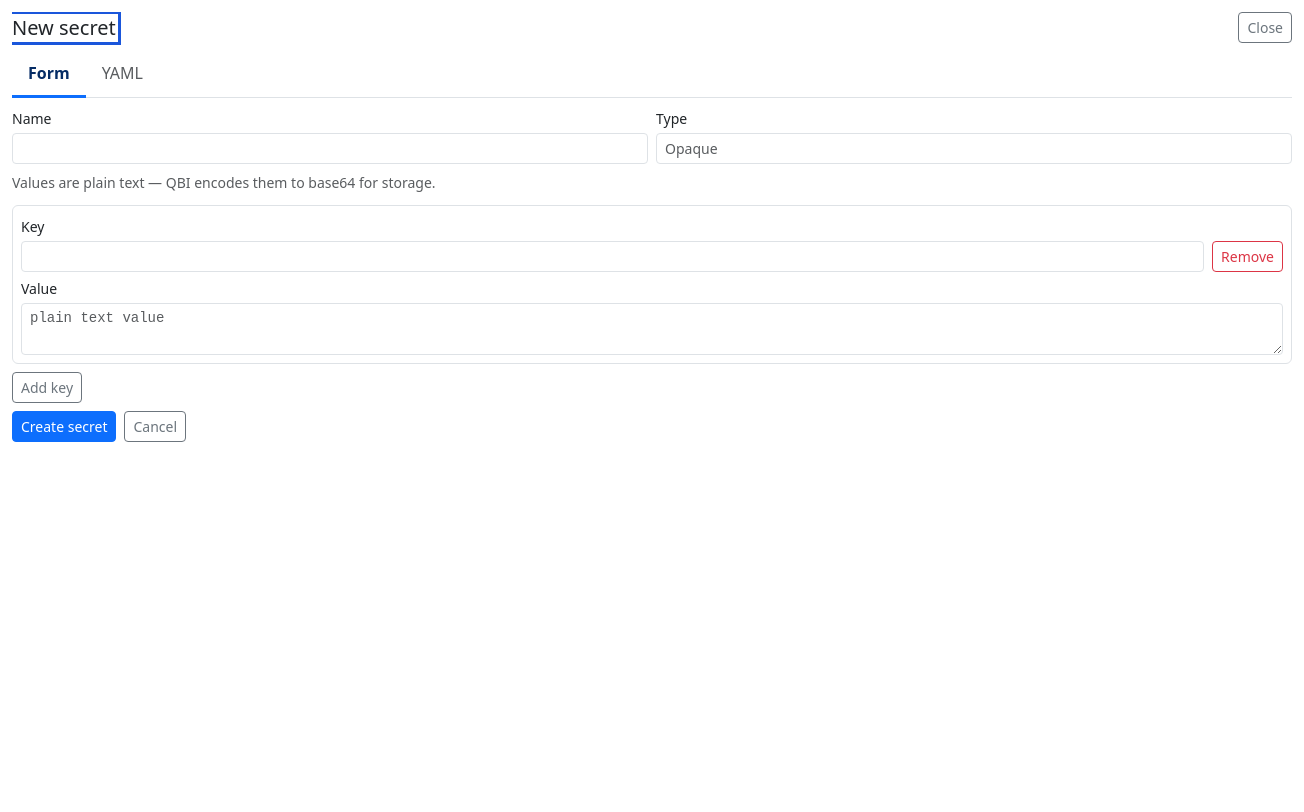
SecretCreate - form validation › rejects duplicate keys
Type "api-token" into the field with id "secret-create-name".
click(330, 148); type("api-token")  # box [12,133,648,164]
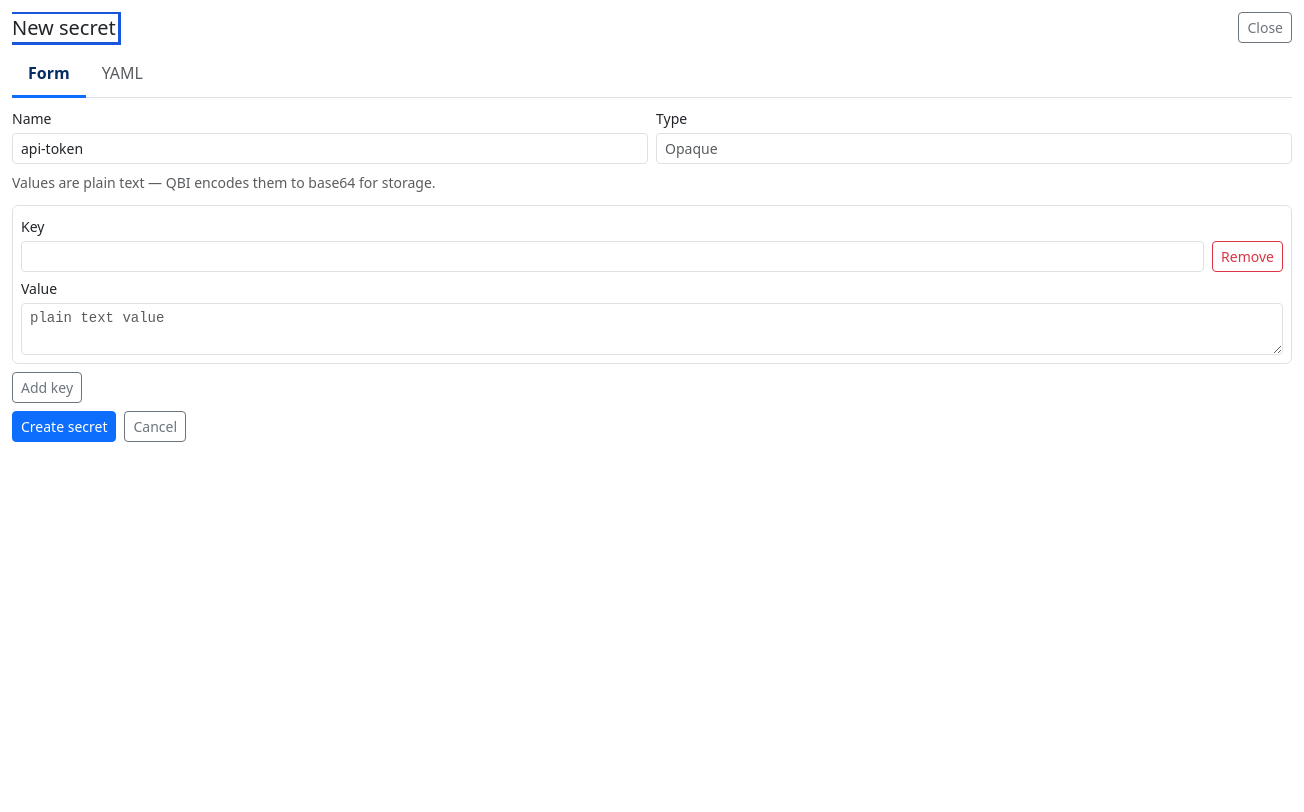
Type "user" into the field labelled "Key".
click(613, 256); type("user")  # box [21,241,1204,272]
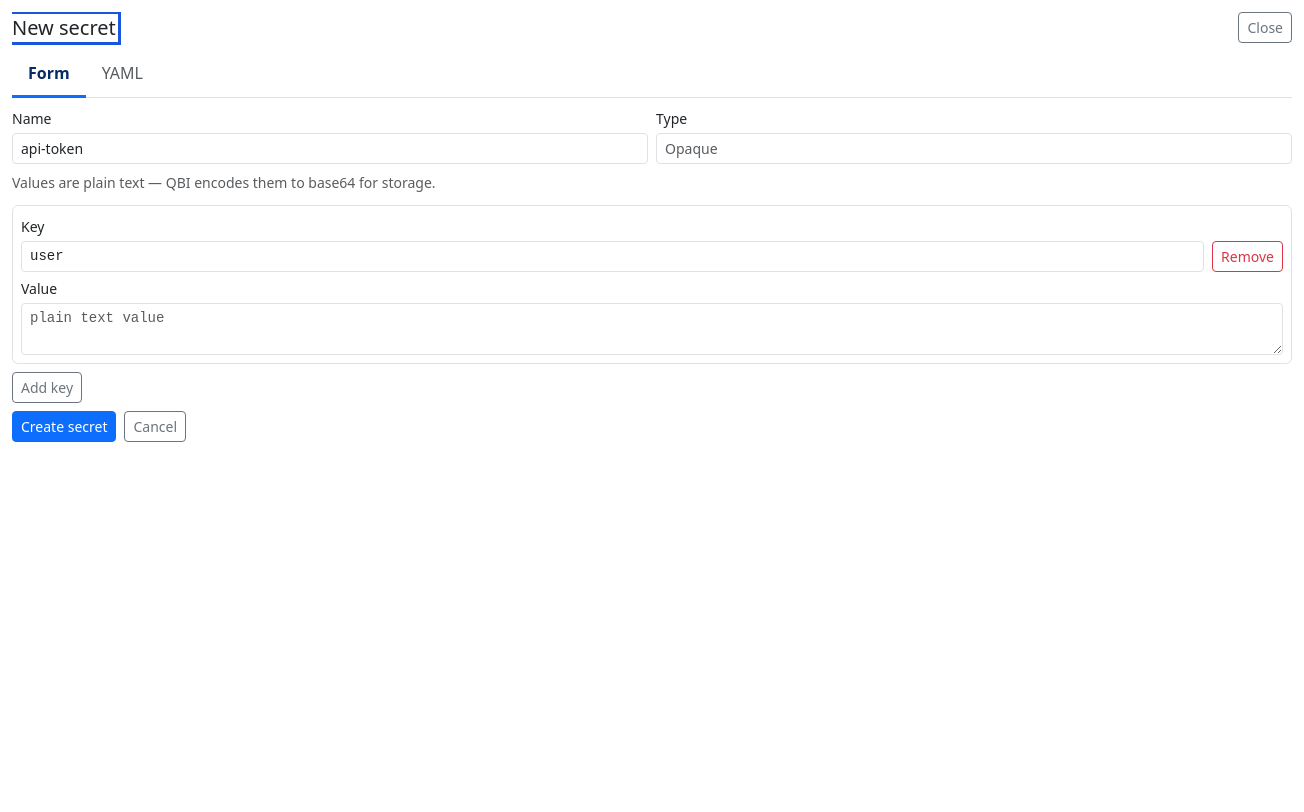
Type "admin" into the text box labelled "Value".
click(652, 329); type("admin")  # box [21,303,1283,355]
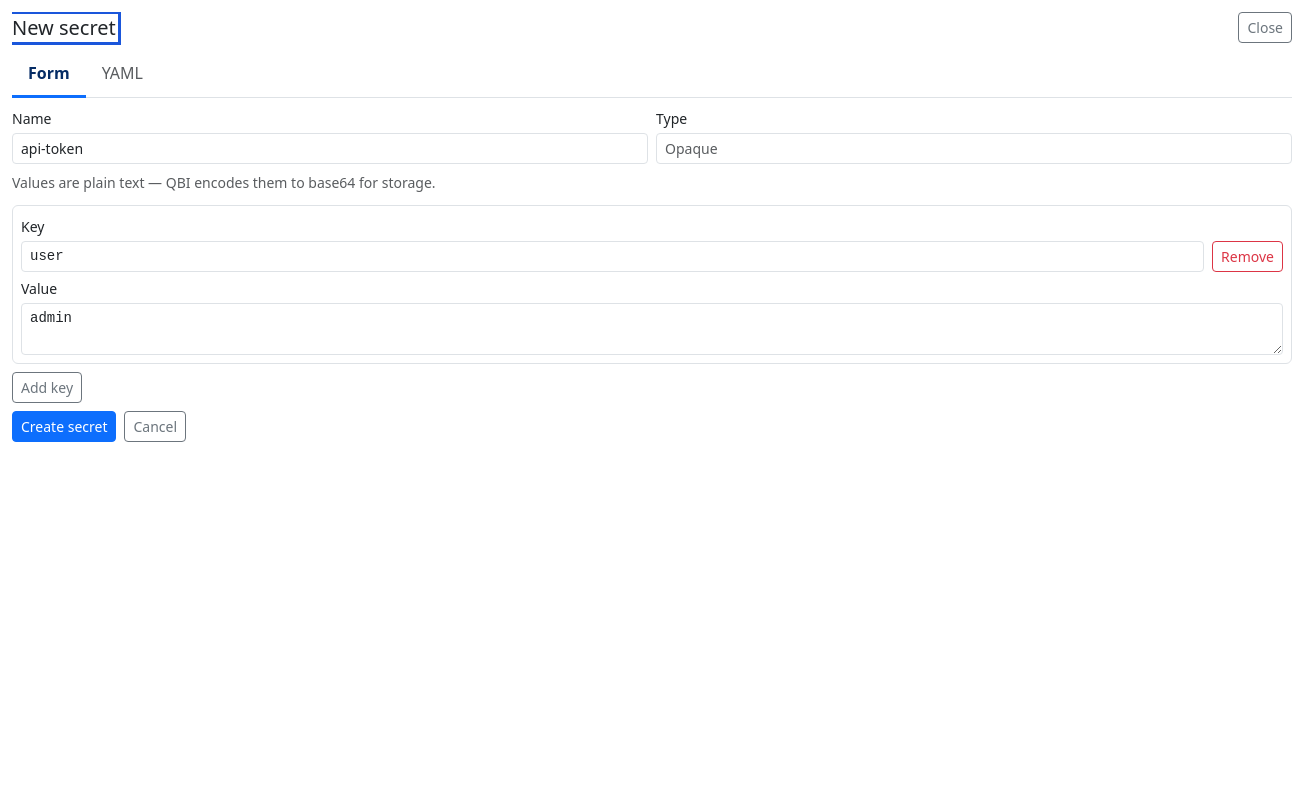
Click the button "Add key".
click(47, 388)  # box [12,372,82,403]
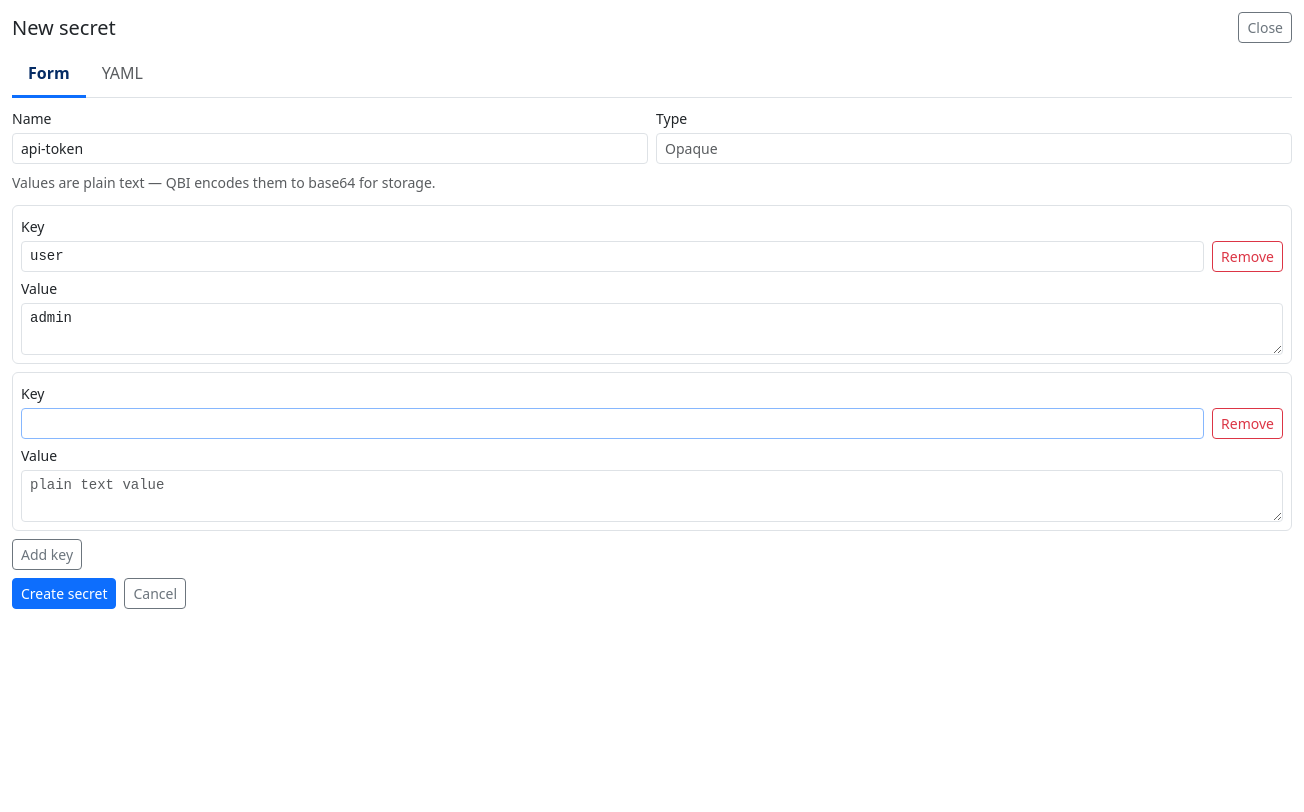
Type "user" into the 2nd field labelled "Key".
click(613, 424); type("user")  # box [21,408,1204,439]
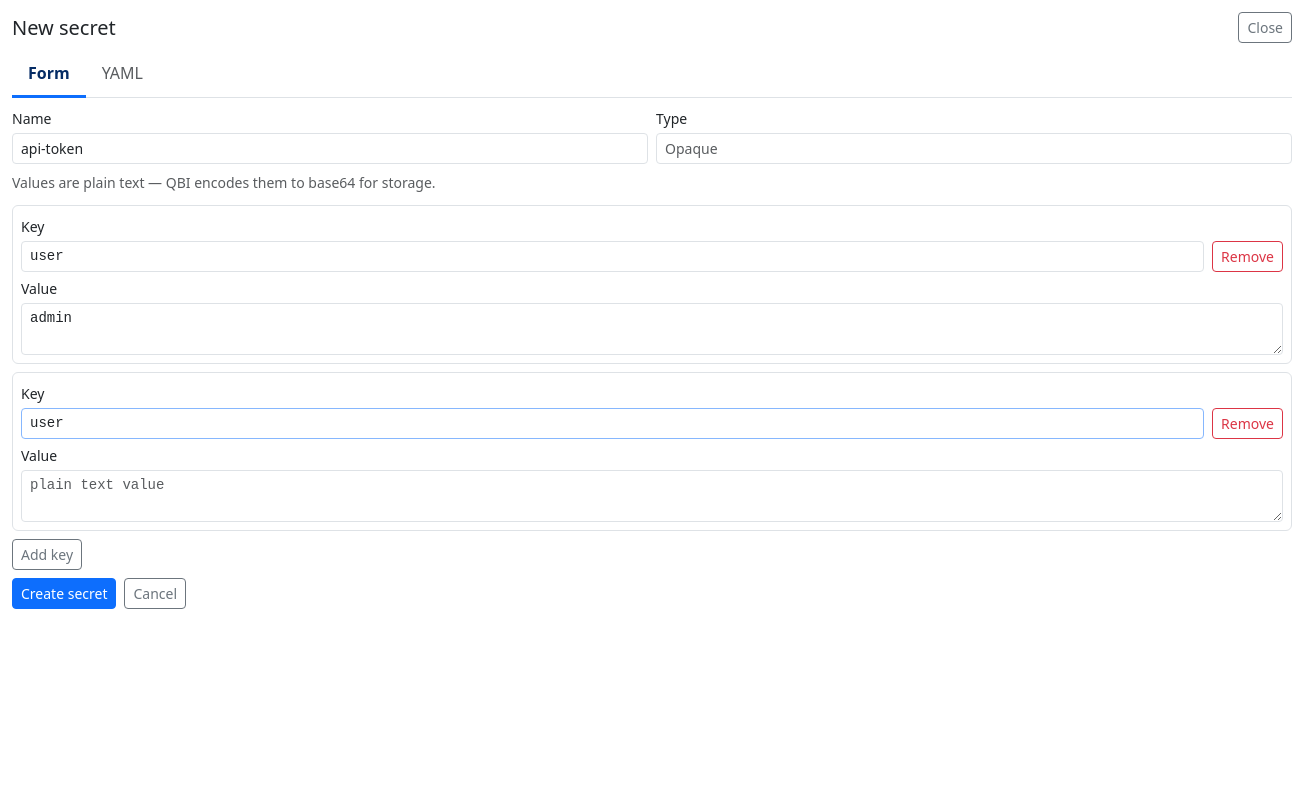
Submit the form
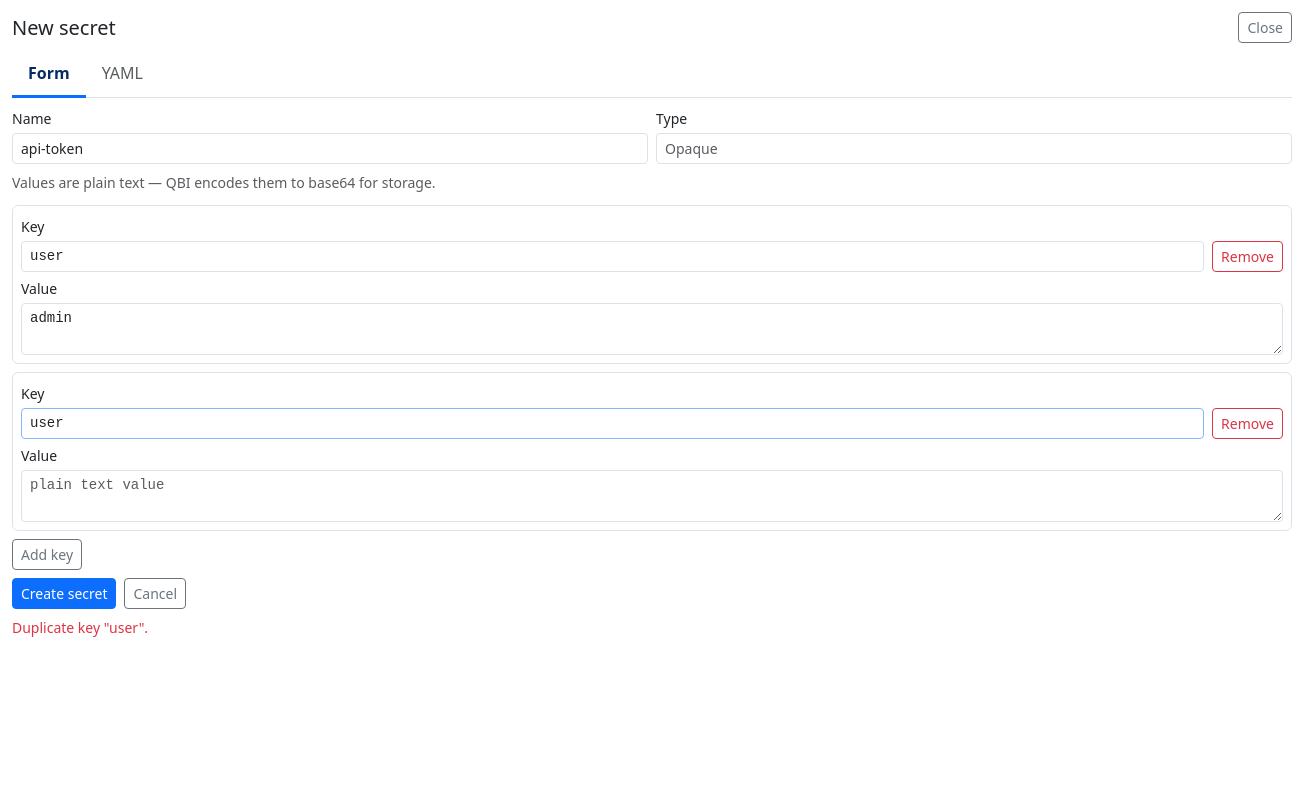
expect the message "Duplicate key \"user\"." is shown: met, box [12,618,148,637]
